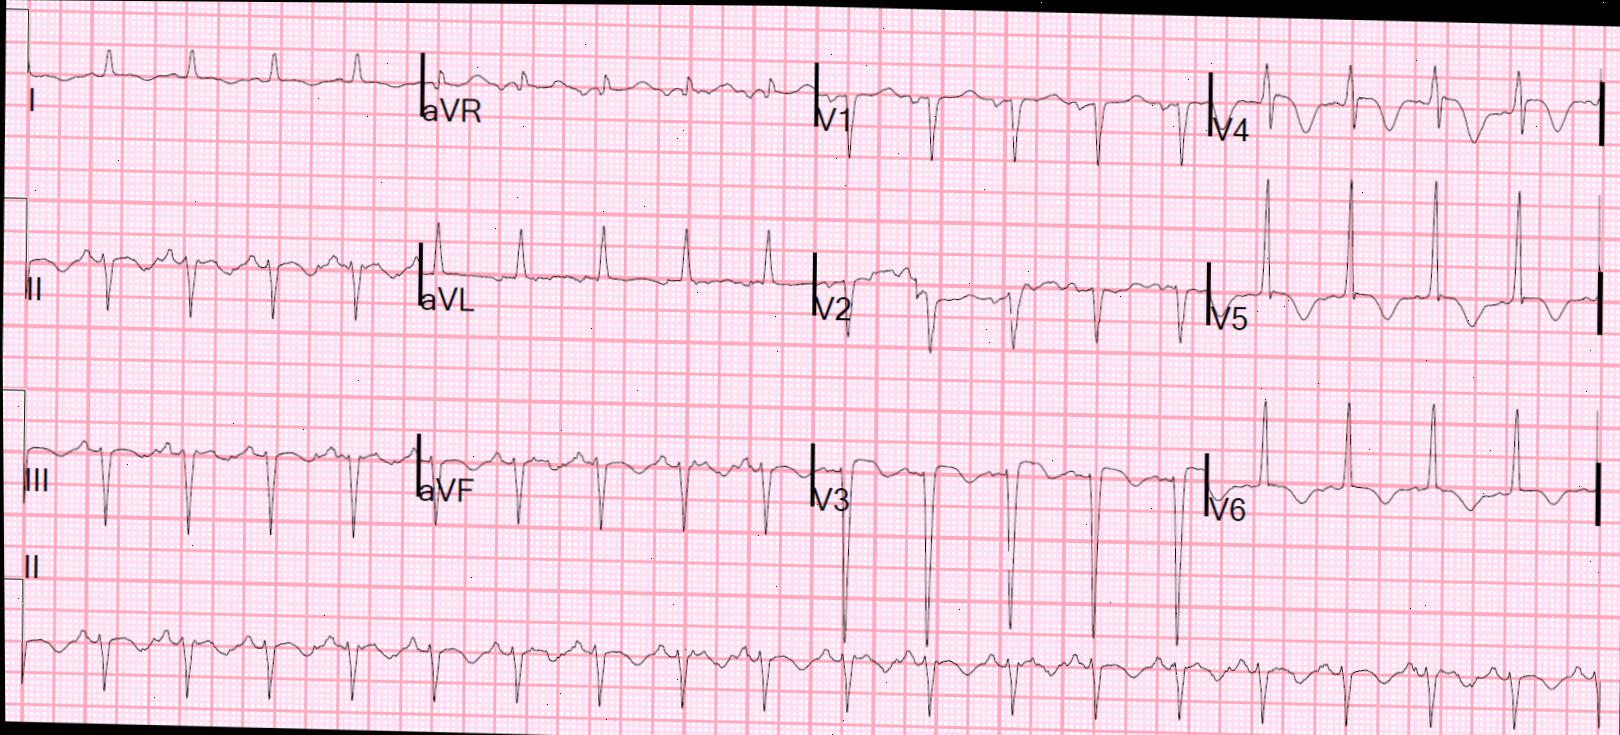Lead_I: (21, 19, 423, 153)
Lead_II: (24, 198, 420, 343)
Lead_III: (22, 400, 418, 553)
Lead_II_ext: (13, 545, 1609, 735)
Lead_V1: (814, 29, 1211, 194)
Lead_V2: (809, 211, 1211, 377)
Lead_V3: (805, 407, 1211, 656)
Lead_V4: (1209, 32, 1612, 173)
Lead_V5: (1205, 153, 1603, 381)
Lead_V6: (1207, 359, 1600, 563)
Lead_aVF: (411, 406, 815, 562)
Lead_aVL: (415, 198, 816, 360)
Lead_aVR: (417, 22, 819, 157)
